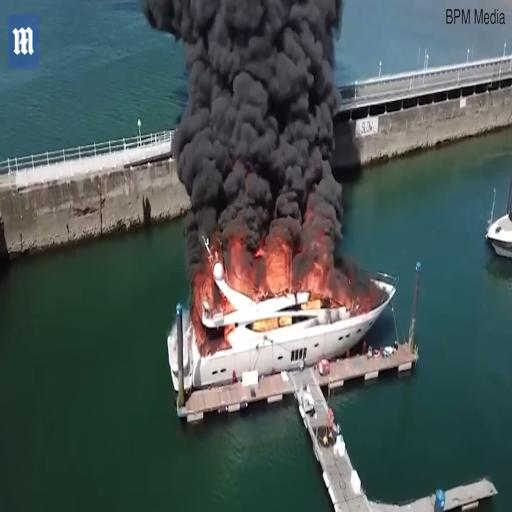fire: (234, 245, 309, 299)
smoke: (199, 2, 340, 214)
